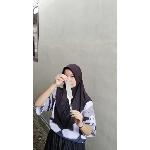Pisau: (61, 76, 78, 116)
